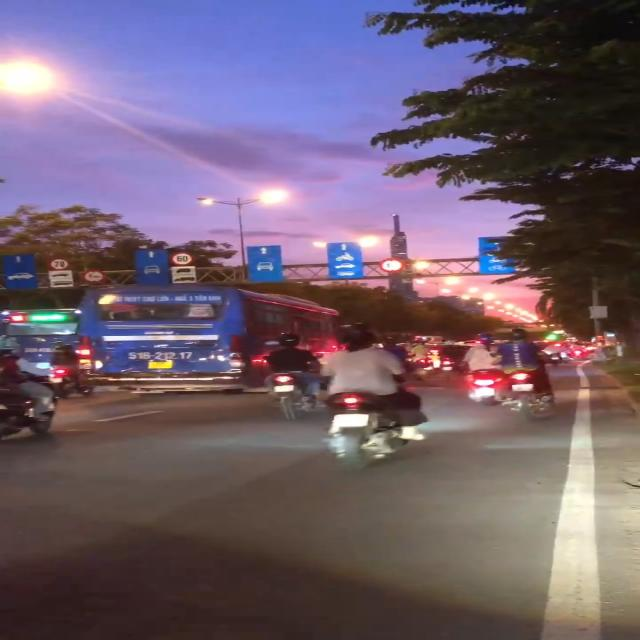Bien bao toc do toi da cho phep: (167, 251, 195, 266), (47, 257, 72, 271)
